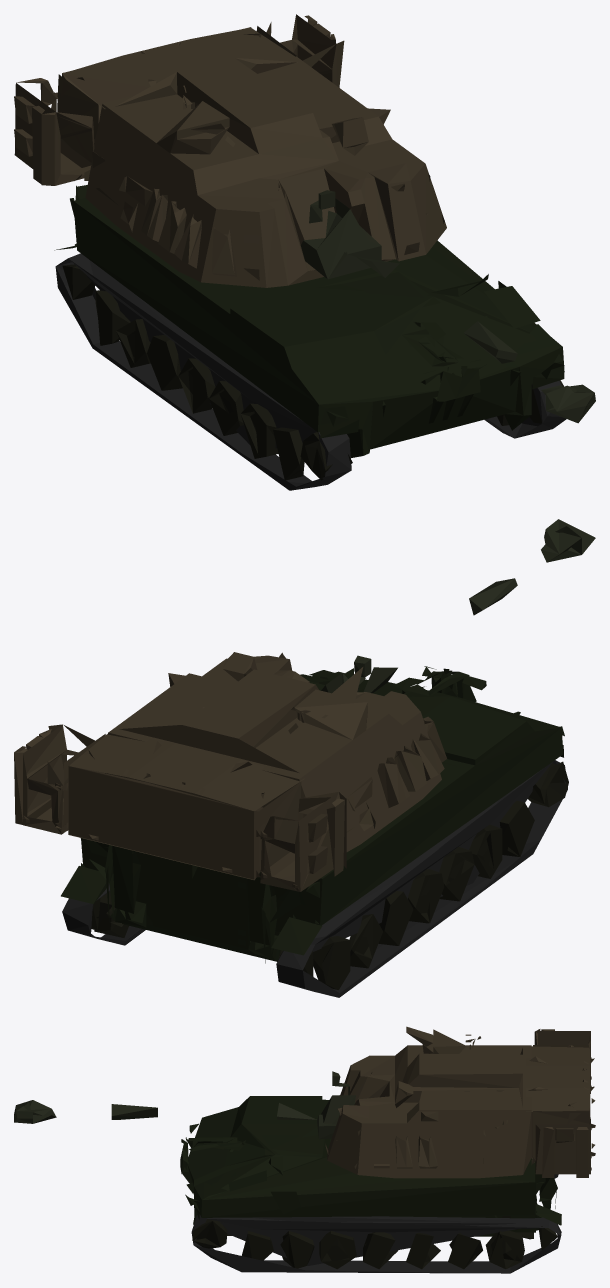
3 views of the same model, one above another, from view 1: azimuth 30°, elevation 25°; view 2: azimuth 150°, elevation 25°; view 3: azimuth 270°, elevation 25° (orthographic). The views are drawn at different scales.
Visible parts, largest first — view 1: g_cannonbase_m109a6_m284l52__M109A6_PaladinCannon_709_0; view 2: g_cannonbase_m109a6_m284l52__M109A6_PaladinCannon_709_0; view 3: g_cannonbase_m109a6_m284l52__M109A6_PaladinCannon_709_0.
Boxes of the visible parts, box(x1,y1,x2,y2) form: g_cannonbase_m109a6_m284l52__M109A6_PaladinCannon_709_0: box(14, 14, 595, 490); g_cannonbase_m109a6_m284l52__M109A6_PaladinCannon_709_0: box(14, 519, 595, 997); g_cannonbase_m109a6_m284l52__M109A6_PaladinCannon_709_0: box(14, 1026, 595, 1273).
Bounding box in the file's own units: 3.72 × 3.15 × 9.08.
